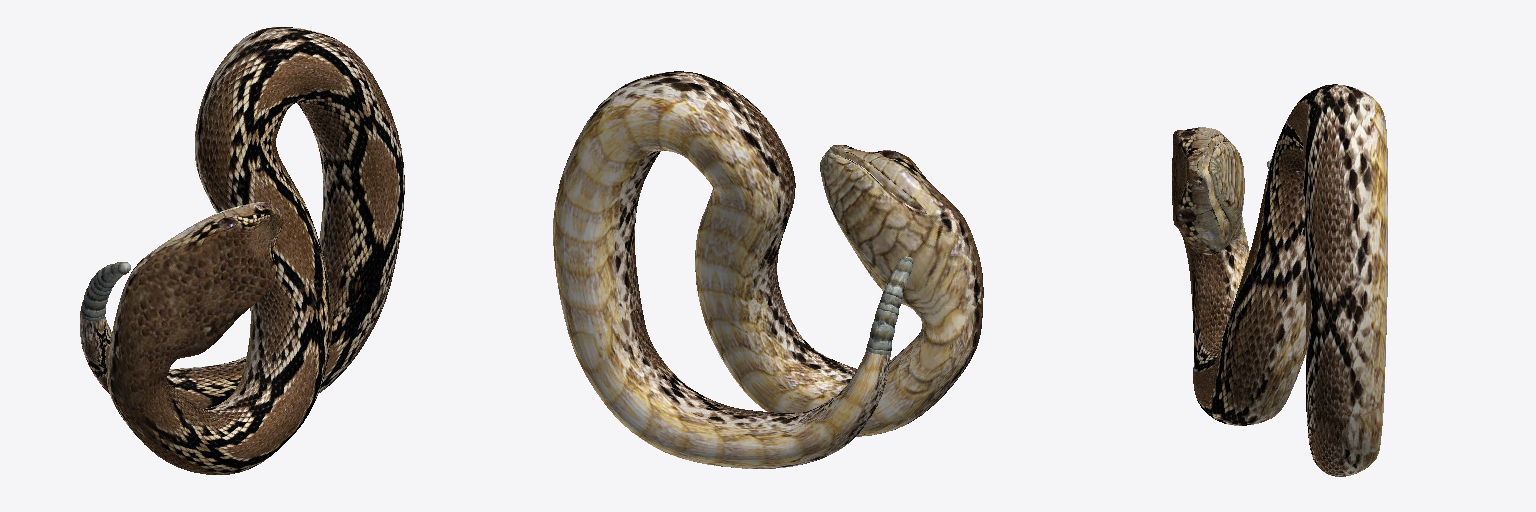
3 renders of one model, left to right at view 1: azimuth 30°, elevation 25°; view 2: azimuth 150°, elevation 25°; view 3: azimuth 270°, elevation 25°, orthographic.
Visible parts, largest first — view 1: 10050_RattleSnake_v04; view 2: 10050_RattleSnake_v04; view 3: 10050_RattleSnake_v04.
Part boxes in pixels (x1,y1,x2,y2): 10050_RattleSnake_v04: (80,27,404,474); 10050_RattleSnake_v04: (553,71,983,468); 10050_RattleSnake_v04: (1172,84,1387,476).
Bounding box in the file's own units: 34.51 × 35.54 × 18.41.
1 materials, 1 textured.